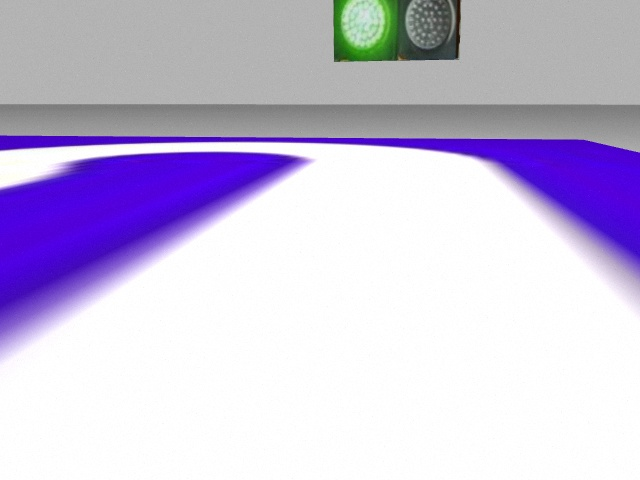green: (333, 3, 396, 58)
